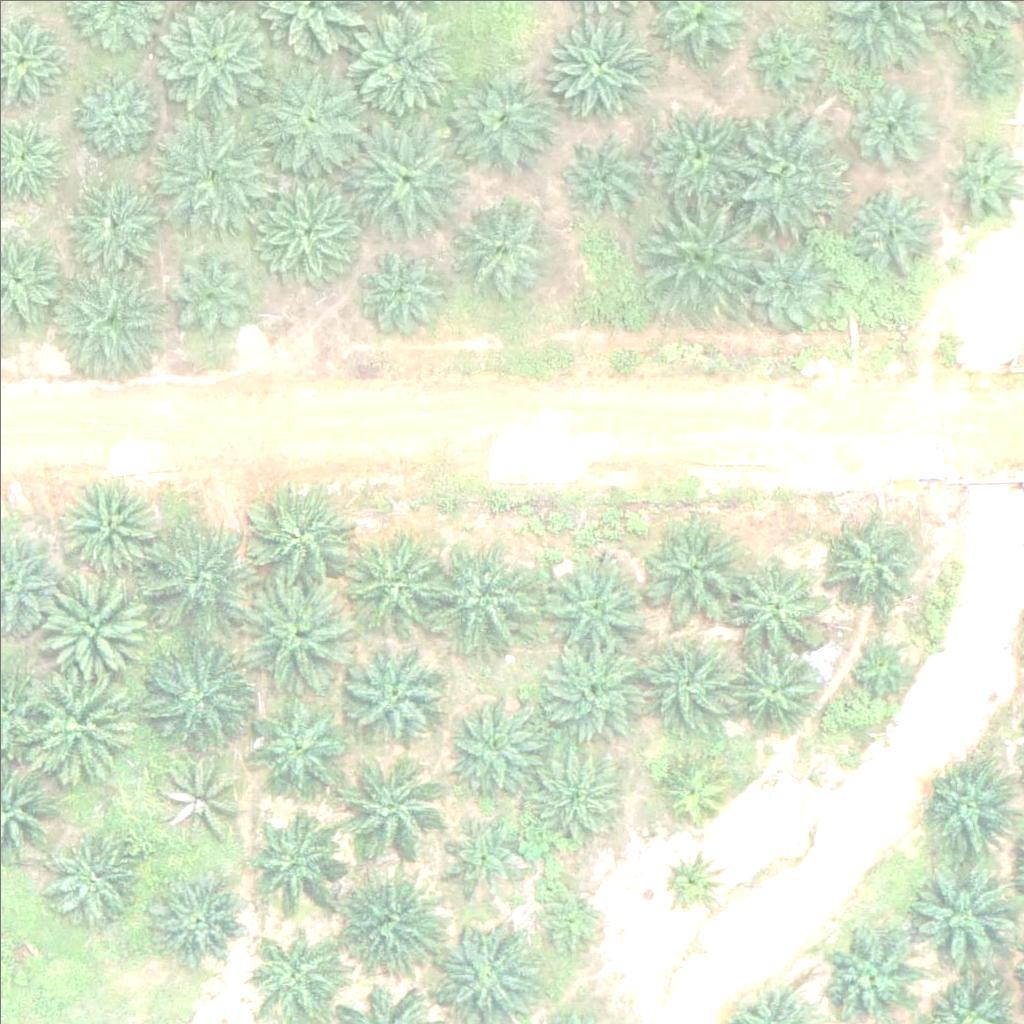Kelapa_Sawit: (153, 112, 266, 225), (255, 171, 368, 284), (341, 1, 454, 114), (241, 477, 354, 590), (536, 636, 649, 749), (539, 548, 652, 661), (637, 509, 750, 622), (908, 863, 1021, 976), (257, 64, 369, 178), (54, 269, 166, 383), (330, 755, 442, 869), (432, 538, 544, 652), (344, 122, 456, 235), (539, 6, 651, 119), (642, 193, 754, 306), (732, 114, 844, 227), (26, 671, 138, 784), (39, 573, 151, 686), (137, 518, 249, 631), (141, 639, 253, 752), (243, 577, 355, 690), (342, 520, 454, 633), (339, 859, 451, 972), (350, 240, 450, 341), (455, 67, 555, 168), (648, 107, 748, 208), (742, 240, 842, 341), (64, 170, 164, 271), (45, 825, 145, 926), (249, 805, 349, 906), (347, 643, 447, 744), (447, 692, 547, 793), (639, 626, 739, 727), (724, 635, 824, 736), (922, 754, 1022, 855), (822, 509, 922, 610), (451, 191, 551, 291), (60, 474, 160, 574), (148, 871, 248, 971), (249, 702, 349, 802), (524, 745, 624, 845), (729, 556, 829, 656), (436, 811, 524, 899), (849, 181, 936, 270), (162, 250, 249, 338), (555, 129, 642, 217), (742, 12, 829, 100), (849, 83, 936, 171), (67, 65, 154, 153), (152, 752, 239, 840), (250, 922, 337, 1010), (532, 885, 607, 960), (656, 747, 731, 822), (841, 623, 916, 698), (659, 846, 722, 909), (956, 45, 1006, 95)
